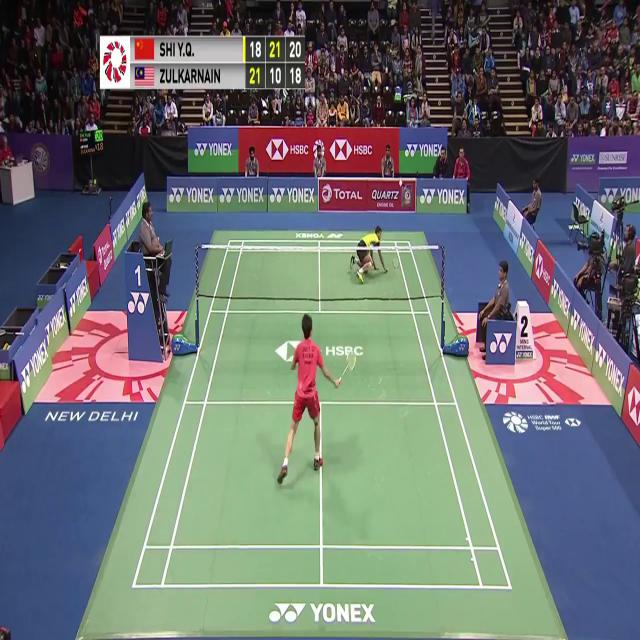Shuttlecock: (397, 177, 403, 189)
